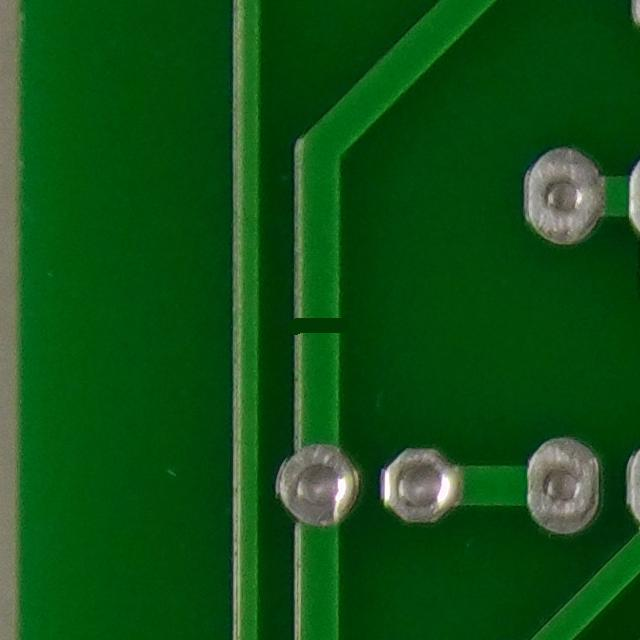open_circuit: (274, 297, 366, 344)
